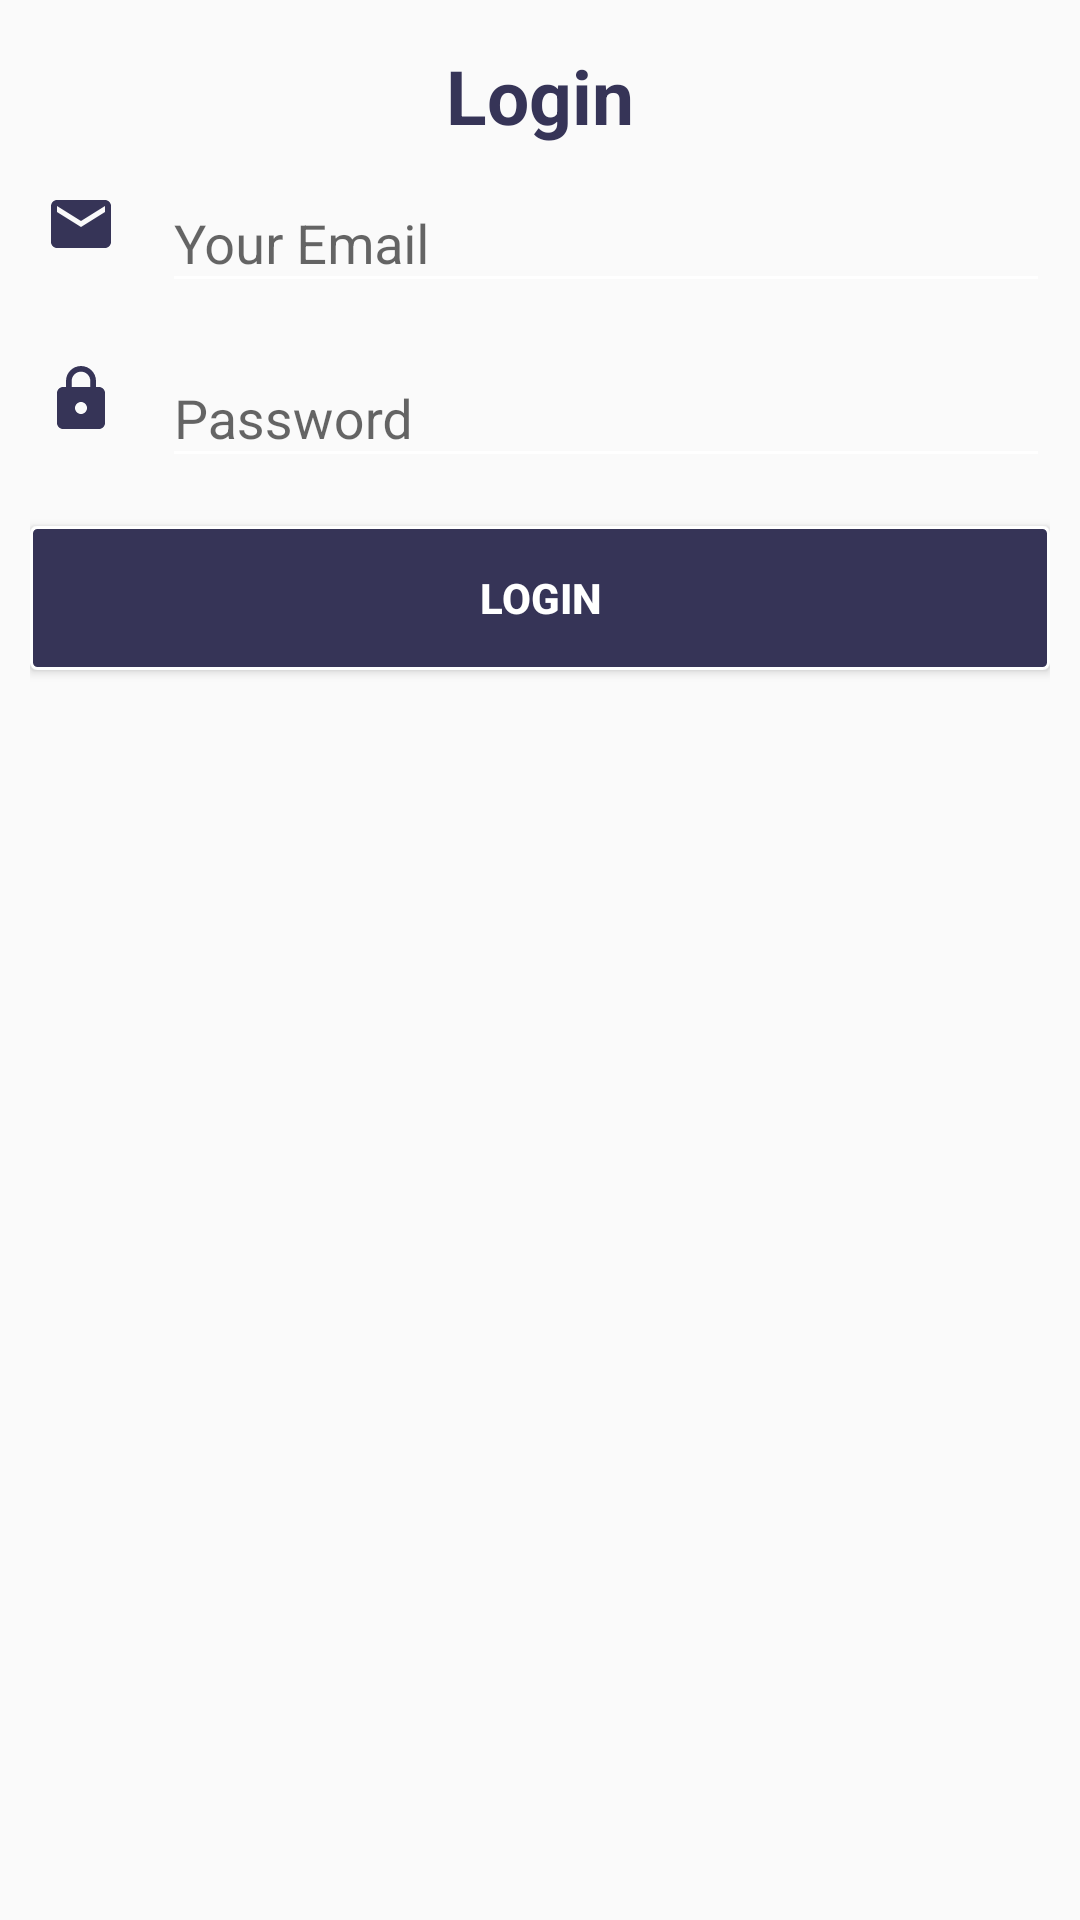

Icon click points for this 1080*1920 phone screenshot, format (x=x, y=y):
lock: (x=81, y=397)
